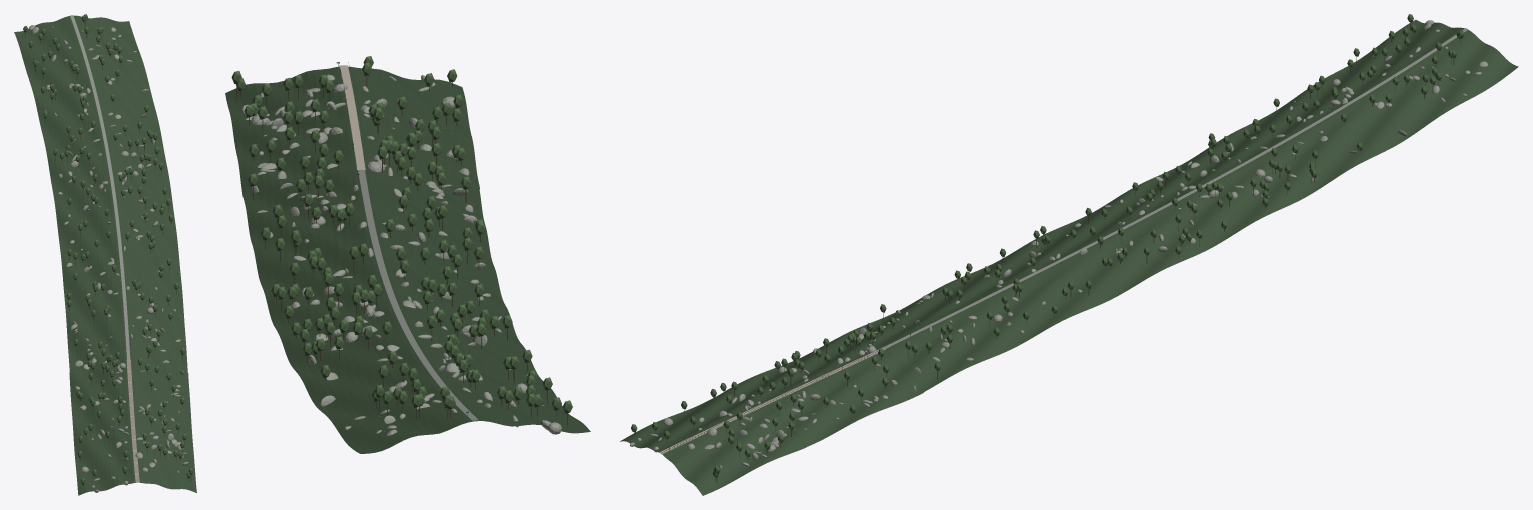
Rendered from summit-approach-lod0.glb.
3 views of the same model, side by side, from view 1: azimuth 30°, elevation 25°; view 2: azimuth 210°, elevation 25°; view 3: azimuth 330°, elevation 25° (orthographic). The views are drawn at different scales.
Visible parts, largest first — view 1: forest, leaf, rock, ridge, bark, stairs; view 2: forest, leaf, rock, ridge, bark, stairs; view 3: forest, leaf, rock, ridge, bark.
Boxes of the visible parts, left/top/right/bottom form: forest: left=14, top=15, right=196, bottom=495; leaf: left=23, top=14, right=193, bottom=484; rock: left=28, top=25, right=188, bottom=492; ridge: left=70, top=15, right=130, bottom=360; bark: left=25, top=16, right=191, bottom=486; stairs: left=126, top=360, right=139, bottom=482; forest: left=225, top=66, right=590, bottom=453; leaf: left=231, top=56, right=572, bottom=413; rock: left=242, top=74, right=561, bottom=435; ridge: left=357, top=170, right=478, bottom=420; bark: left=236, top=62, right=567, bottom=425; stairs: left=339, top=65, right=365, bottom=170; forest: left=620, top=20, right=1518, bottom=495; leaf: left=631, top=14, right=1464, bottom=477; rock: left=630, top=20, right=1488, bottom=468; ridge: left=883, top=28, right=1468, bottom=349; bark: left=634, top=22, right=1461, bottom=482.
Bounding box in the file's own units: 227 × 94.67 × 386.
